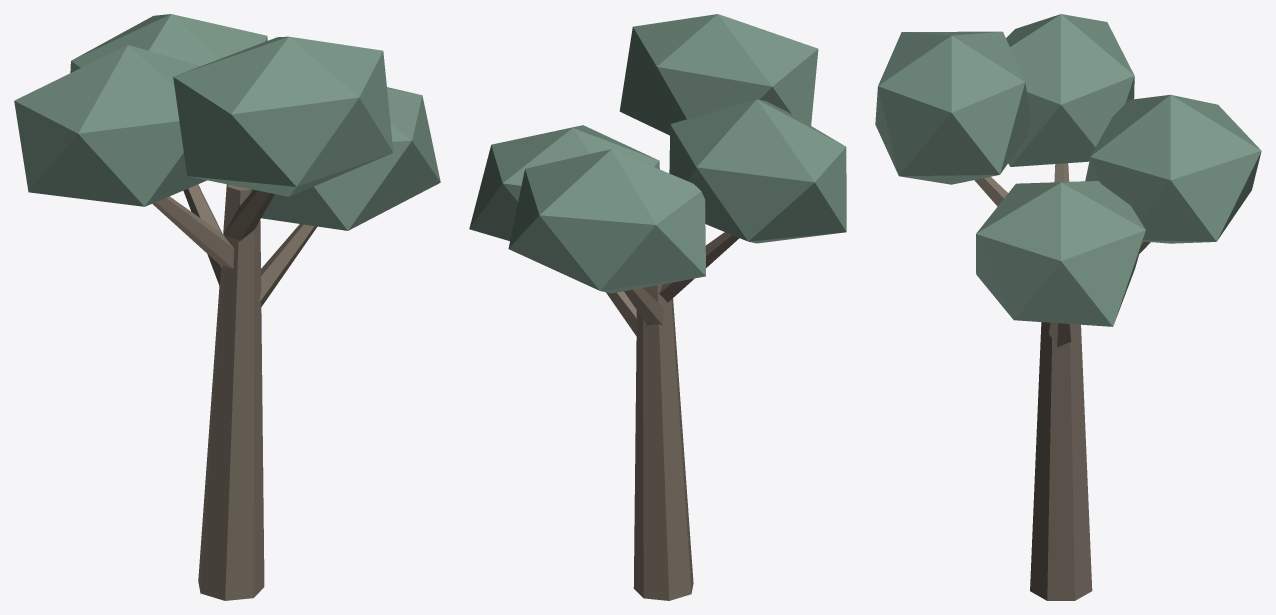
Rendered from SM_ELY_NAT_003_PrunedTree.glb.
The picture shows the model from 3 angles, left to right: view 1: azimuth 30°, elevation 25°; view 2: azimuth 150°, elevation 25°; view 3: azimuth 270°, elevation 25°; orthographic projection. The views are drawn at different scales.
Visible parts, largest first — view 1: SM_ELY_NAT_003_PrunedTree; view 2: SM_ELY_NAT_003_PrunedTree; view 3: SM_ELY_NAT_003_PrunedTree.
Part boxes in pixels (x1,y1,x2,y2): SM_ELY_NAT_003_PrunedTree: (14, 14, 440, 600); SM_ELY_NAT_003_PrunedTree: (469, 14, 846, 600); SM_ELY_NAT_003_PrunedTree: (875, 14, 1261, 600).
Size of the model in its own units: 1.85 by 2.67 by 1.69.
